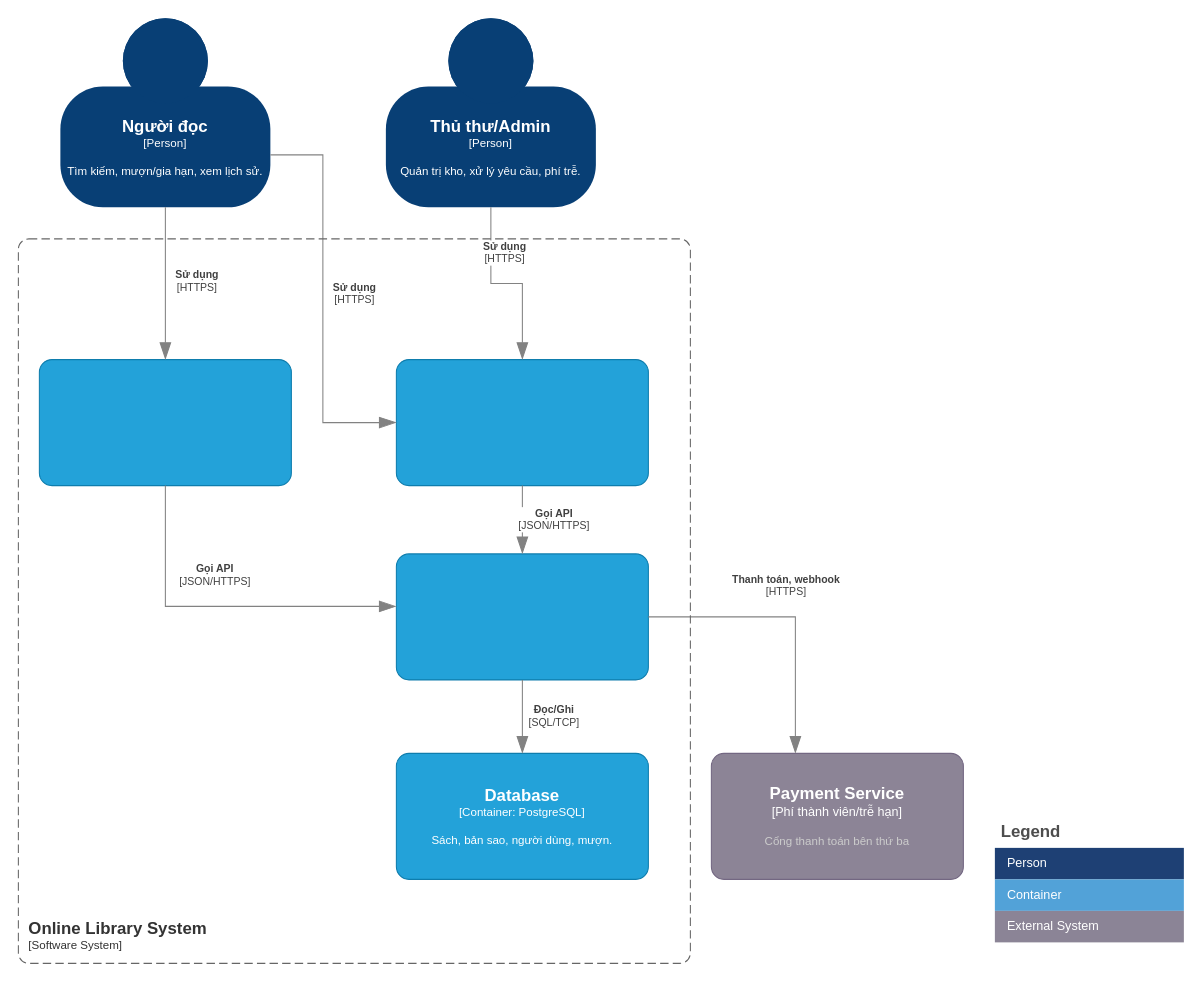
Image size: 1202x982. Some labels were removed from this diagram. The shapes that lost their labels are listed below. From the top down, each one's box as (x1, y1, x2, y2) in pixels, then its label:
(38, 359, 291, 486): Mobile App [Container: Flutter/RN] Ứng dụng di động cho người đọc.
(395, 359, 648, 486): Web App [Container: SPA + REST] UI web cho người đọc/thủ thư.
(395, 553, 648, 680): Backend API [Container: Node/Java/.NET] Nghiệp vụ mượn/trả, phí, kho.
